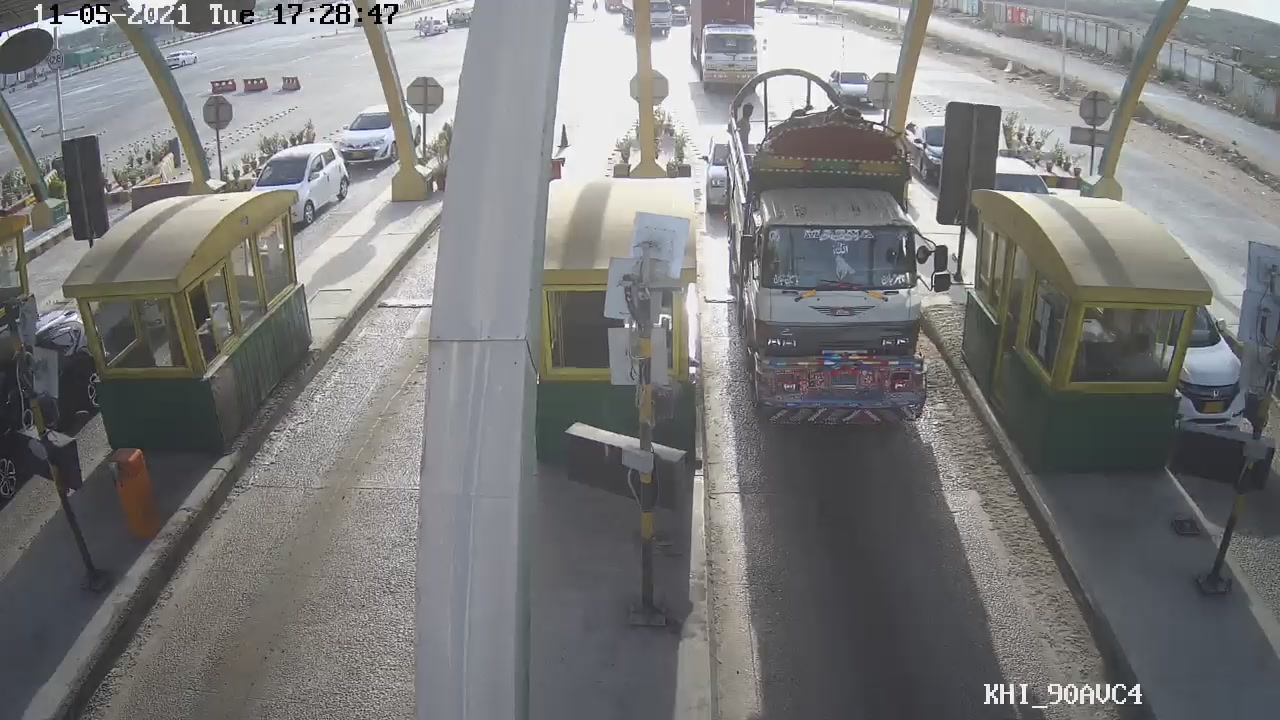F5: (714, 132, 975, 434)
